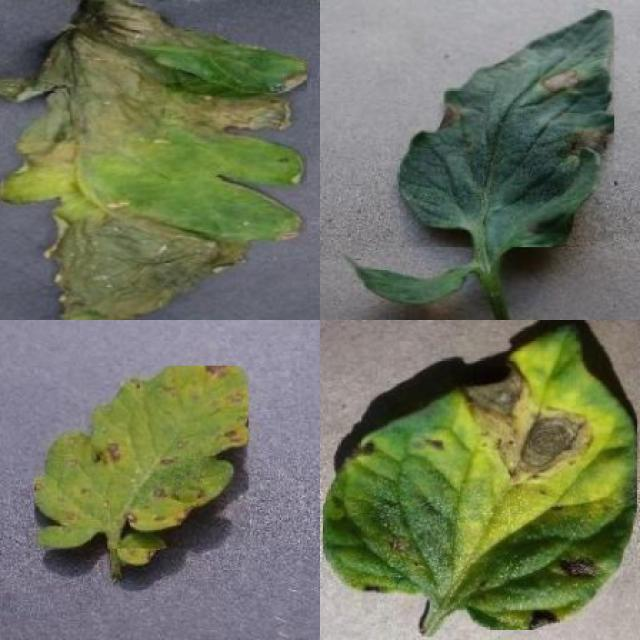Early Blight: (323, 323, 637, 630), (399, 10, 614, 247)
Late Blight: (0, 0, 307, 320)
Septoria: (35, 366, 248, 548)
